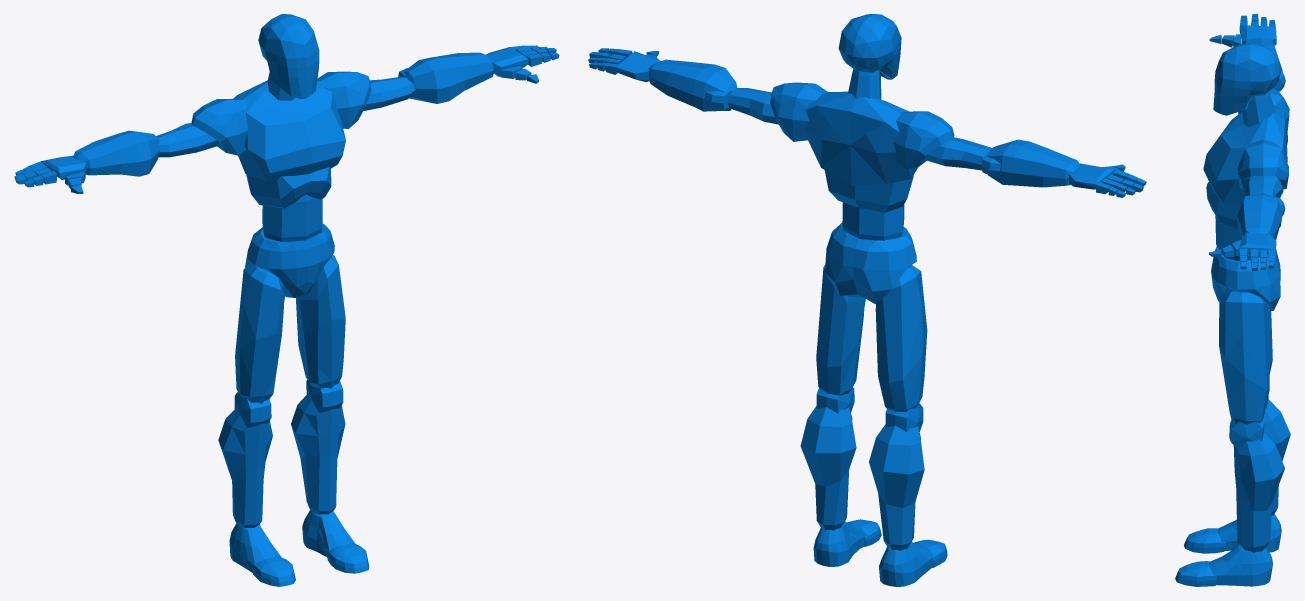
File: Basic_Criypticman.fbx
3 views of the same model, side by side, from view 1: azimuth 30°, elevation 25°; view 2: azimuth 150°, elevation 25°; view 3: azimuth 270°, elevation 25° (orthographic). The views are drawn at different scales.
Parts seen in each view (by area): view 1: Mesh_Chest_Hero1, Mesh_RuLeg_Hero1, Mesh_LuLeg_Hero1, Mesh_LlLeg_Hero1, Mesh_RlLeg_Hero1, Mesh_Head_Hero1, Mesh_Hips_Hero1, Mesh_LlArm_Hero1, Mesh_RlArm_Hero1, Mesh_Rdelt_Hero1, Mesh_Waist_Hero1, Mesh_Ribs_Hero1 (+10 smaller); view 2: Mesh_Chest_Hero1, Mesh_RuLeg_Hero1, Mesh_RlLeg_Hero1, Mesh_LlLeg_Hero1, Mesh_Hips_Hero1, Mesh_LuLeg_Hero1, Mesh_Head_Hero1, Mesh_RlArm_Hero1, Mesh_LlArm_Hero1, Mesh_Rdelt_Hero1, Mesh_Ldelt_Hero1, Mesh_Ribs_Hero1 (+9 smaller); view 3: Mesh_LuLeg_Hero1, Mesh_LlLeg_Hero1, Mesh_Chest_Hero1, Mesh_Head_Hero1, Mesh_Hips_Hero1, Mesh_Lfoot_Hero1, Mesh_Ldelt_Hero1, Mesh_LlArm_Hero1, Mesh_RlLeg_Hero1, Mesh_Ltoes_Hero1, Mesh_Rtoes_Hero1, Mesh_Rfoot_Hero1 (+9 smaller).
Boxes of the visible parts, left/top/right/bottom form: Mesh_Chest_Hero1: left=233, top=80, right=345, bottom=181; Mesh_RuLeg_Hero1: left=235, top=265, right=284, bottom=403; Mesh_LuLeg_Hero1: left=296, top=255, right=345, bottom=388; Mesh_LlLeg_Hero1: left=291, top=394, right=345, bottom=514; Mesh_RlLeg_Hero1: left=218, top=409, right=272, bottom=528; Mesh_Head_Hero1: left=258, top=14, right=319, bottom=98; Mesh_Hips_Hero1: left=245, top=223, right=334, bottom=298; Mesh_LlArm_Hero1: left=404, top=52, right=494, bottom=103; Mesh_RlArm_Hero1: left=73, top=130, right=159, bottom=176; Mesh_Rdelt_Hero1: left=191, top=99, right=247, bottom=155; Mesh_Waist_Hero1: left=262, top=194, right=322, bottom=241; Mesh_Ribs_Hero1: left=246, top=167, right=331, bottom=208; Mesh_Chest_Hero1: left=804, top=91, right=918, bottom=185; Mesh_RuLeg_Hero1: left=875, top=265, right=927, bottom=411; Mesh_RlLeg_Hero1: left=869, top=424, right=924, bottom=550; Mesh_LlLeg_Hero1: left=800, top=406, right=856, bottom=530; Mesh_Hips_Hero1: left=824, top=223, right=916, bottom=303; Mesh_LuLeg_Hero1: left=816, top=265, right=865, bottom=395; Mesh_Head_Hero1: left=838, top=14, right=901, bottom=79; Mesh_RlArm_Hero1: left=987, top=139, right=1079, bottom=187; Mesh_LlArm_Hero1: left=648, top=59, right=737, bottom=111; Mesh_Rdelt_Hero1: left=893, top=111, right=954, bottom=169; Mesh_Ldelt_Hero1: left=770, top=82, right=827, bottom=141; Mesh_Ribs_Hero1: left=824, top=170, right=913, bottom=212; Mesh_LuLeg_Hero1: left=1219, top=291, right=1269, bottom=424; Mesh_LlLeg_Hero1: left=1233, top=432, right=1284, bottom=552; Mesh_Chest_Hero1: left=1203, top=105, right=1287, bottom=205; Mesh_Head_Hero1: left=1213, top=42, right=1280, bottom=115; Mesh_Hips_Hero1: left=1211, top=246, right=1280, bottom=310; Mesh_Lfoot_Hero1: left=1208, top=545, right=1272, bottom=586; Mesh_Ldelt_Hero1: left=1238, top=139, right=1288, bottom=189; Mesh_LlArm_Hero1: left=1237, top=193, right=1282, bottom=239; Mesh_RlLeg_Hero1: left=1263, top=399, right=1290, bottom=516; Mesh_Ltoes_Hero1: left=1175, top=561, right=1216, bottom=586; Mesh_Rtoes_Hero1: left=1184, top=528, right=1225, bottom=553; Mesh_Rfoot_Hero1: left=1217, top=514, right=1281, bottom=552.
Bounding box in the file's own units: 6.51 × 6.19 × 1.25.
